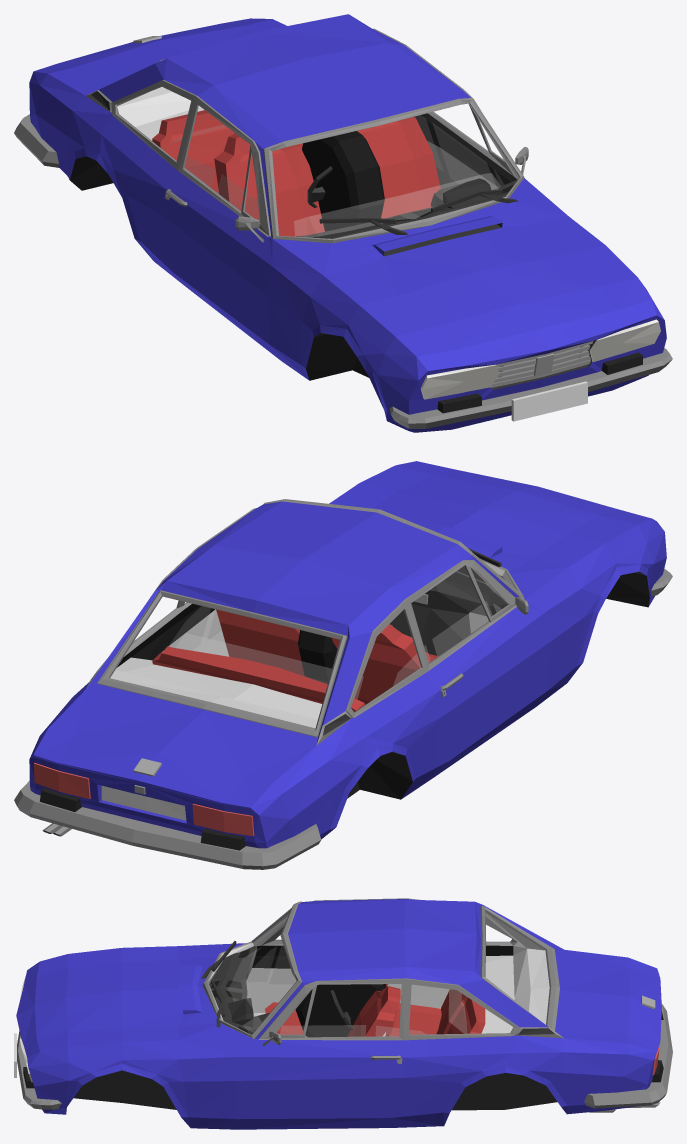
File: car-504-coupe.glb
3 views of the same model, one above another, from view 1: azimuth 30°, elevation 25°; view 2: azimuth 150°, elevation 25°; view 3: azimuth 270°, elevation 25° (orthographic). The views are drawn at different scales.
Parts seen in each view (by area): view 1: Peugeot_504_coupe, Window, front_wheel_left, front_wheel_right; view 2: Peugeot_504_coupe, Window, rear_wheel_left; view 3: Peugeot_504_coupe, Window, rear_wheel_left, front_wheel_right.
Part boxes in pixels (x1,y1,x2,y2): Peugeot_504_coupe: (14,14,672,432); Window: (172,115,503,237); front_wheel_left: (302,135,382,231); front_wheel_right: (318,135,384,224); Peugeot_504_coupe: (14,461,672,869); Window: (169,571,500,698); rear_wheel_left: (298,630,328,683); Peugeot_504_coupe: (14,898,672,1129); Window: (227,945,467,1036); rear_wheel_left: (302,984,385,1037); front_wheel_right: (295,984,377,1037).
Size of the model in its own units: 62692 by 39599 by 155189.
Materials: 2 (1 with a texture image).
